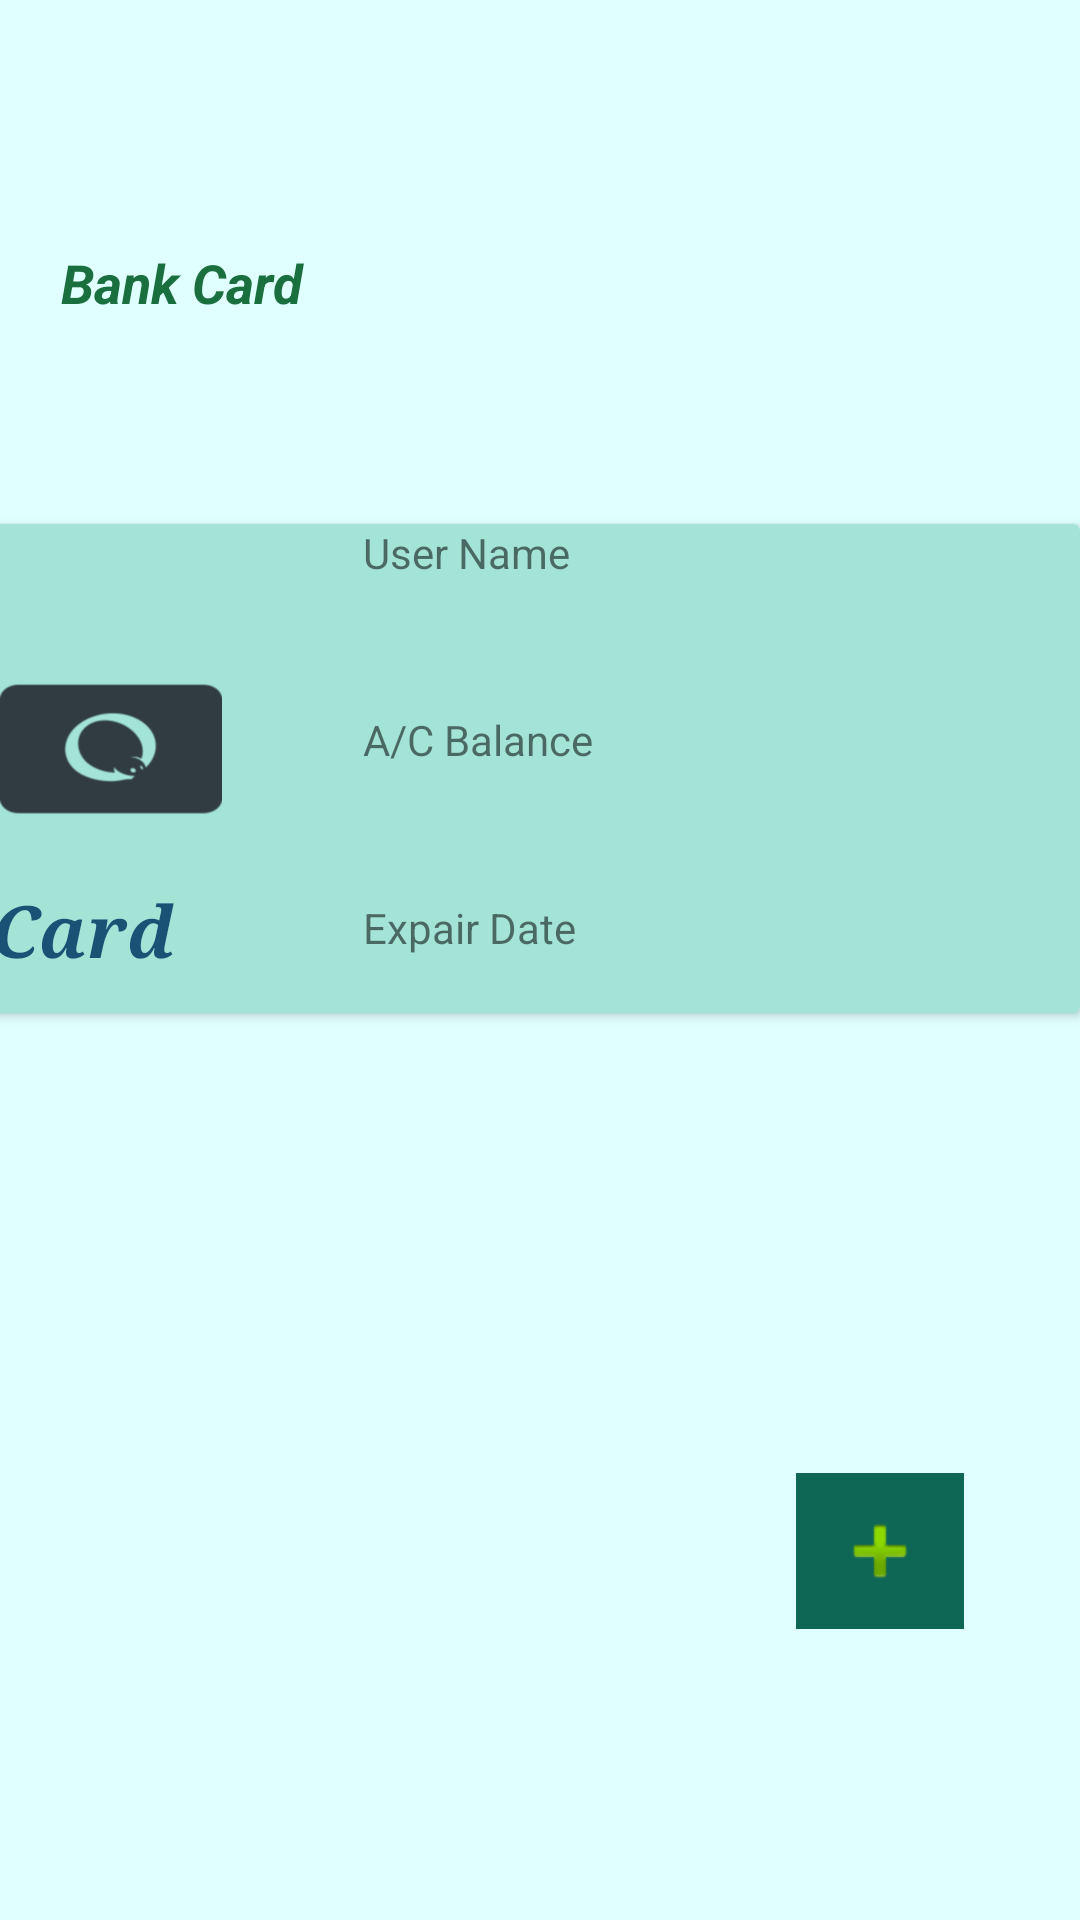

Point at icon controls on the screen. Image size 1080x1920, points as [x,y].
add: [880,1551]
